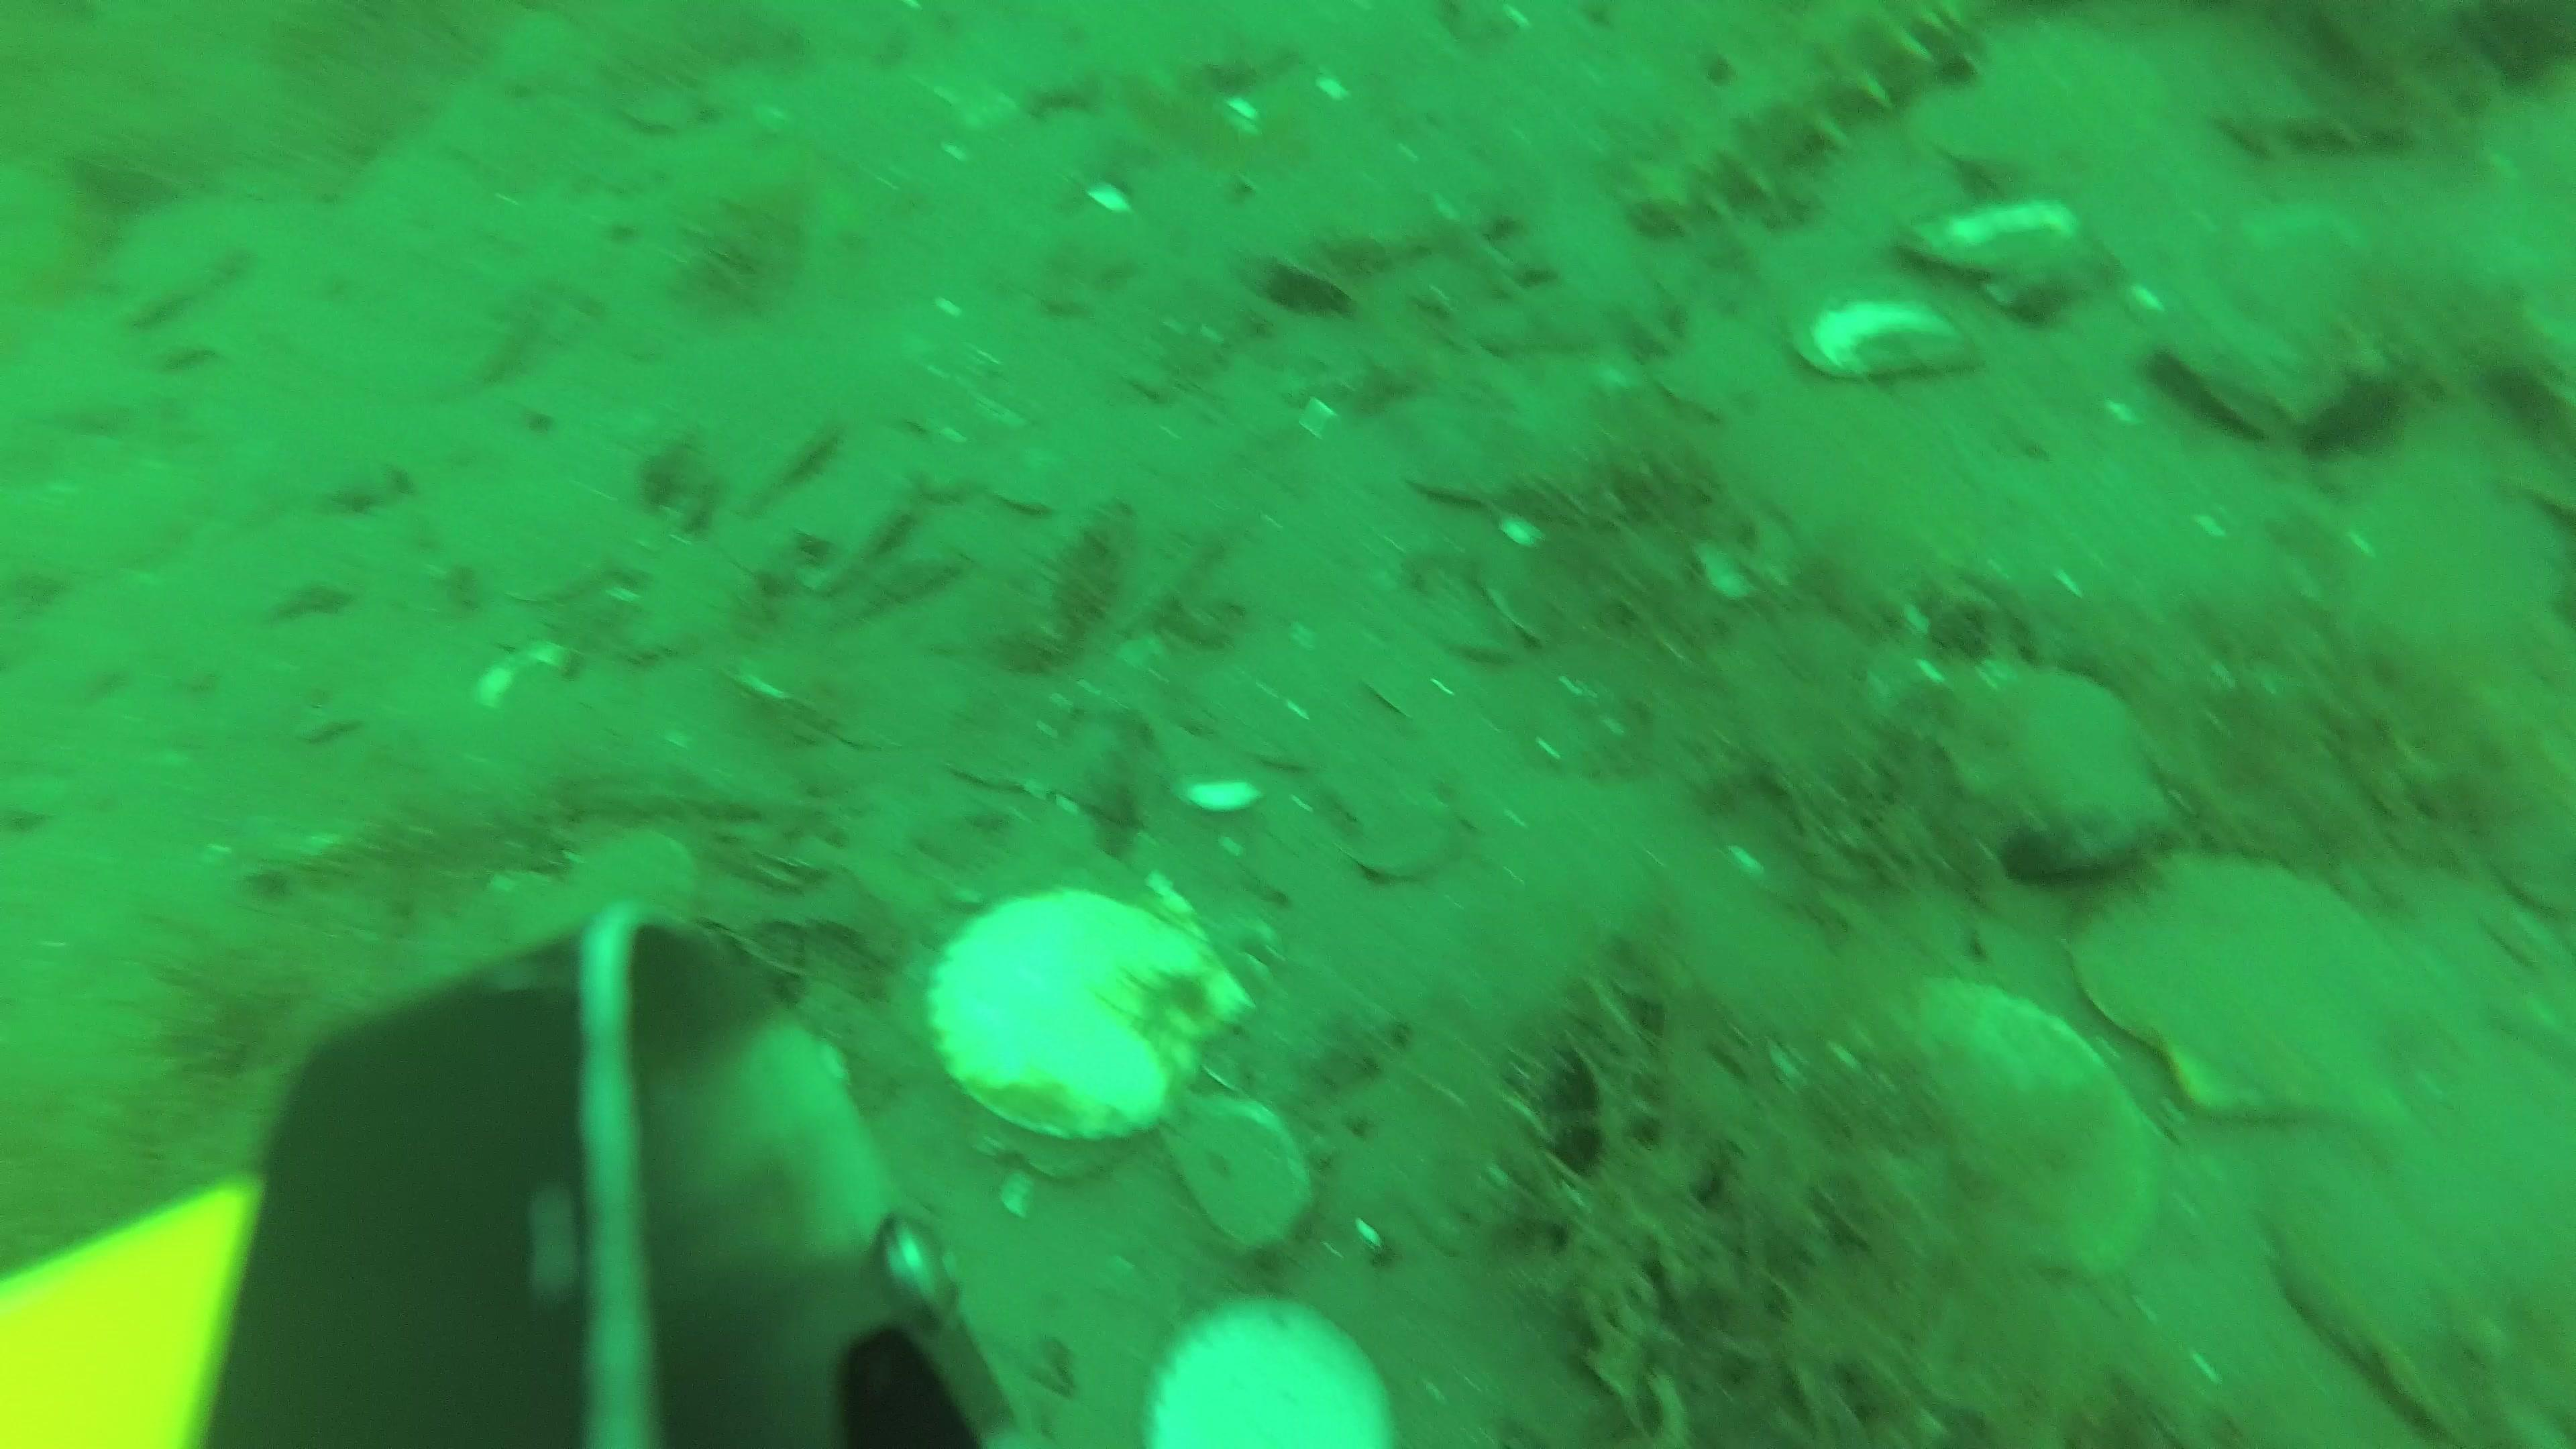holothurian: (1608, 4, 2003, 241)
scallop: (2068, 840, 2417, 1138), (1861, 982, 2160, 1293), (927, 897, 1237, 1152), (1911, 658, 2158, 840), (1138, 1293, 1391, 1449)
